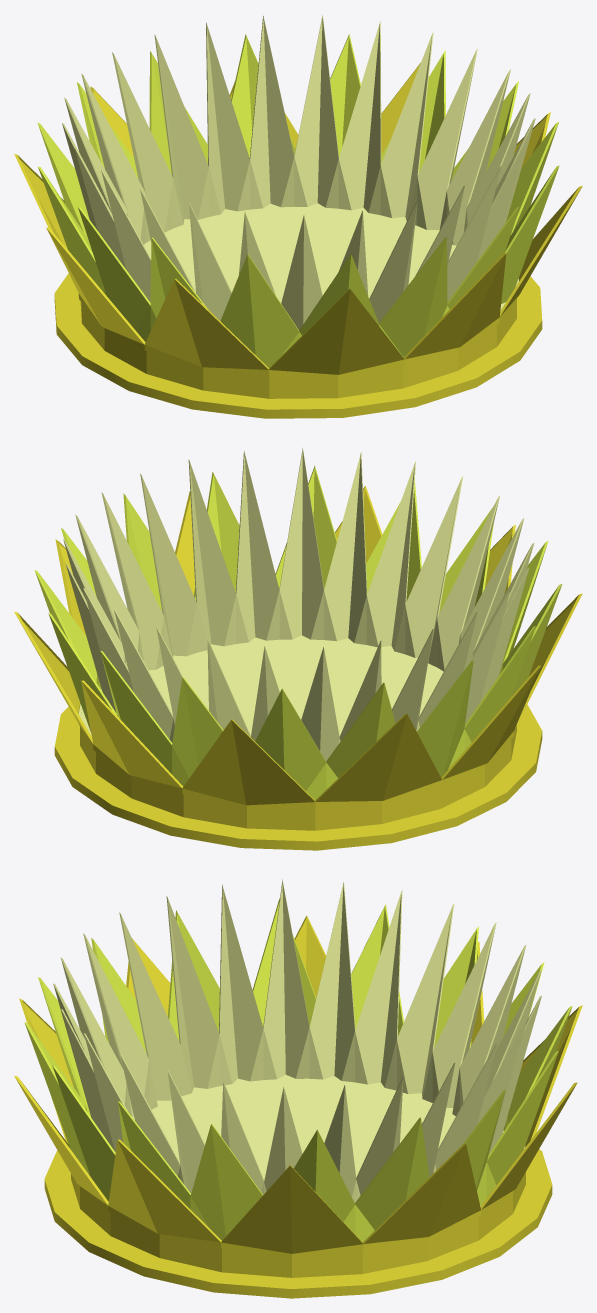
Rendered from portal_000044.obj.
3 renders of one model, top to bottom at view 1: azimuth 30°, elevation 25°; view 2: azimuth 150°, elevation 25°; view 3: azimuth 270°, elevation 25°, orthographic. The views are drawn at different scales.
Visible parts, largest first — view 1: Cylinder.001, pCylinder1, Cylinder; view 2: Cylinder.001, pCylinder1, Cylinder; view 3: Cylinder.001, pCylinder1, Cylinder.
Part boxes in pixels (left/top/right/bottom): Cylinder.001: left=62, top=15, right=535, bottom=330; pCylinder1: left=14, top=62, right=582, bottom=418; Cylinder: left=37, top=34, right=559, bottom=368; Cylinder.001: left=63, top=448, right=534, bottom=761; pCylinder1: left=14, top=485, right=582, bottom=850; Cylinder: left=34, top=465, right=562, bottom=800; Cylinder.001: left=53, top=879, right=541, bottom=1202; pCylinder1: left=14, top=915, right=582, bottom=1298; Cylinder: left=24, top=898, right=572, bottom=1242.
Bounding box in the file's own units: 7.45 × 2.9 × 7.15.
3 materials, 3 textured.
